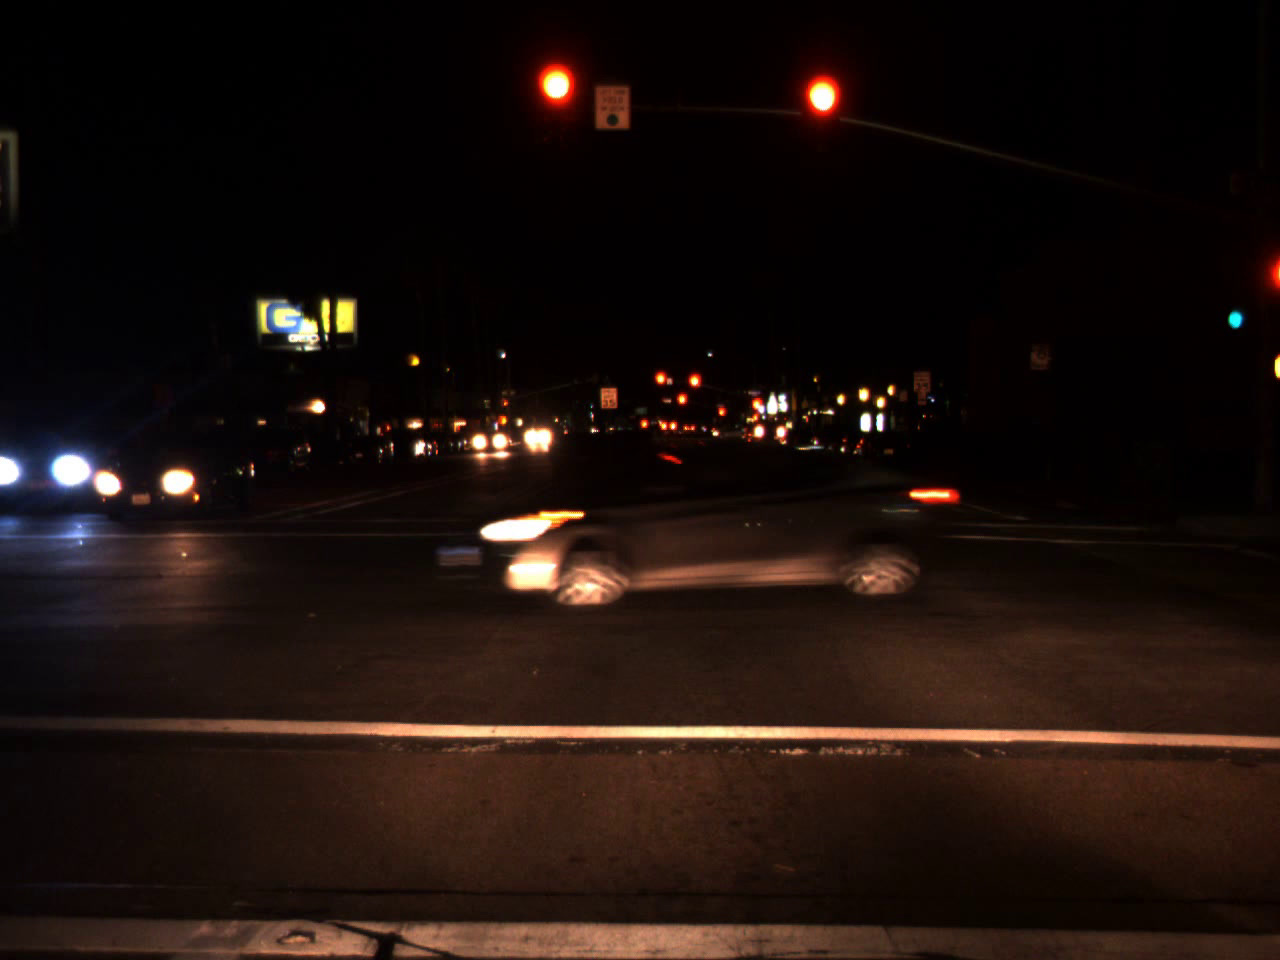stop: (537, 64, 577, 142), (800, 74, 840, 152), (653, 370, 671, 399), (686, 371, 702, 403), (674, 391, 689, 418), (750, 397, 763, 424), (717, 406, 726, 427), (503, 398, 509, 414)
